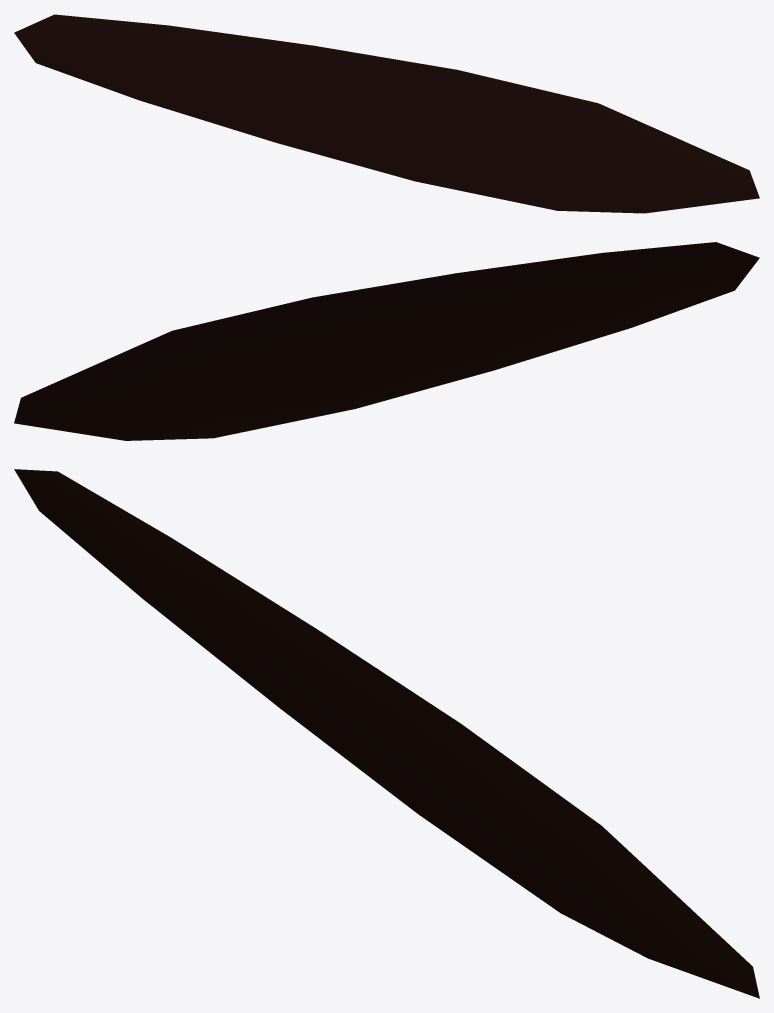
Rendered from pheasant_feather_flight_primary_020.obj.
3 renders of one model, top to bottom at view 1: azimuth 30°, elevation 25°; view 2: azimuth 150°, elevation 25°; view 3: azimuth 330°, elevation 25°, orthographic.
Parts seen in each view (by area): view 1: feather_flight_primary_020; view 2: feather_flight_primary_020; view 3: feather_flight_primary_020.
Part boxes in pixels (x1,y1,x2,y2): feather_flight_primary_020: (14, 14, 759, 213); feather_flight_primary_020: (14, 242, 759, 440); feather_flight_primary_020: (14, 469, 759, 998).
Size of the model in its own units: 0.1327 by 0.0602 by 0.00053.
